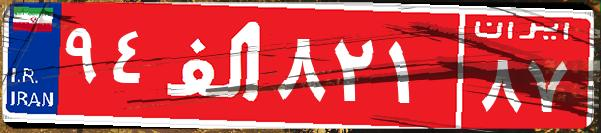1: (385, 28, 445, 110)
2: (330, 28, 385, 110)
4: (110, 28, 158, 105)
7: (525, 38, 570, 115)
8: (273, 28, 330, 110), (475, 38, 525, 113)
9: (57, 26, 110, 107)
الف: (158, 15, 273, 115)
